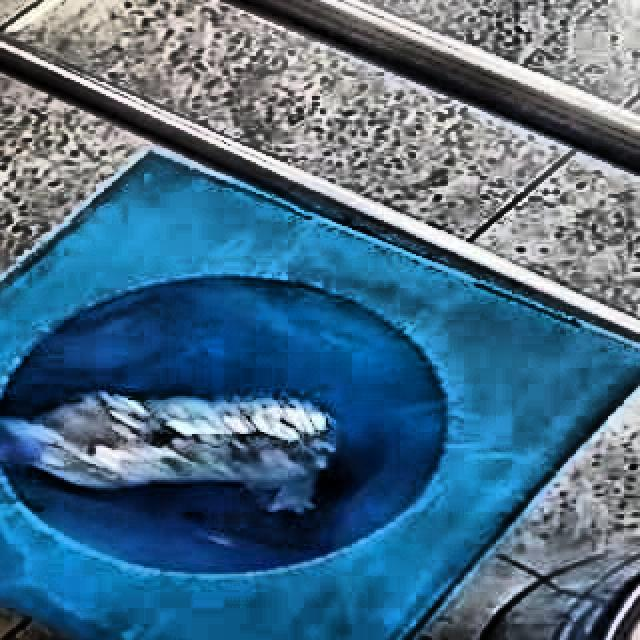plastic: (0, 393, 338, 482)
